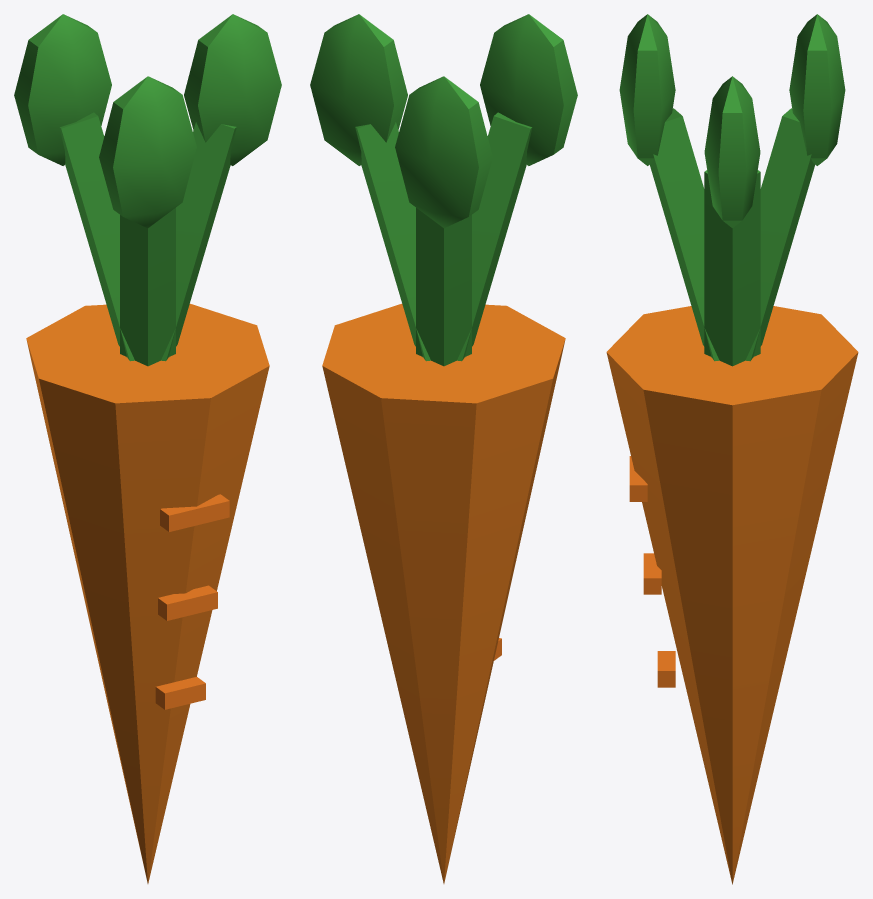
The model's file is item_carrot.glb.
3 views of the same model, side by side, from view 1: azimuth 30°, elevation 25°; view 2: azimuth 150°, elevation 25°; view 3: azimuth 270°, elevation 25° (orthographic).
Visible parts, largest first — view 1: item_carrot, item_carrot_detail; view 2: item_carrot; view 3: item_carrot, item_carrot_detail.
Part boxes in pixels (box(x1,y1,x2,y2)): item_carrot: box(14, 14, 281, 883); item_carrot_detail: box(155, 494, 229, 709); item_carrot: box(310, 14, 577, 883); item_carrot: box(606, 14, 858, 884); item_carrot_detail: box(629, 456, 675, 687).
Bounding box in the file's own units: 0.1946 × 0.67 × 0.18.
